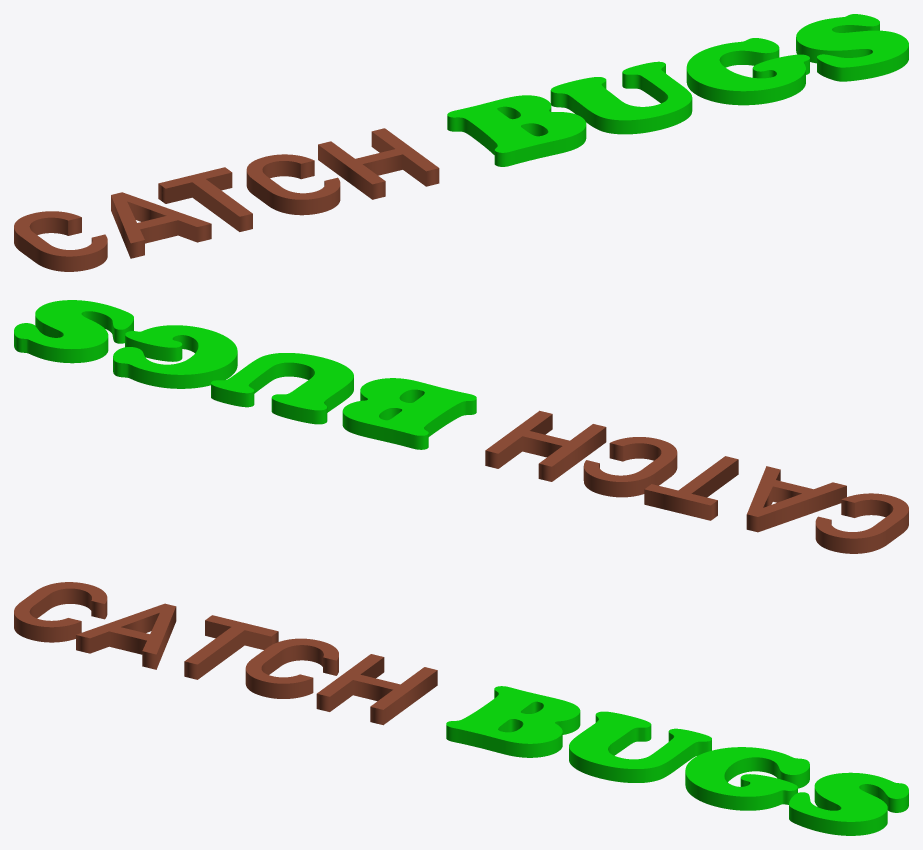
Rendered from catch_bugs.fbx.
The picture shows the model from 3 angles, top to bottom: view 1: azimuth 30°, elevation 25°; view 2: azimuth 150°, elevation 25°; view 3: azimuth 330°, elevation 25°; orthographic projection.
Visible parts, largest first — view 1: CatchBugs; view 2: CatchBugs; view 3: CatchBugs.
Part boxes in pixels (x1,y1,x2,y2): CatchBugs: [14, 14, 908, 271]; CatchBugs: [14, 300, 908, 553]; CatchBugs: [14, 582, 908, 835].
Size of the model in its own units: 516 by 8.75 by 59.31.
